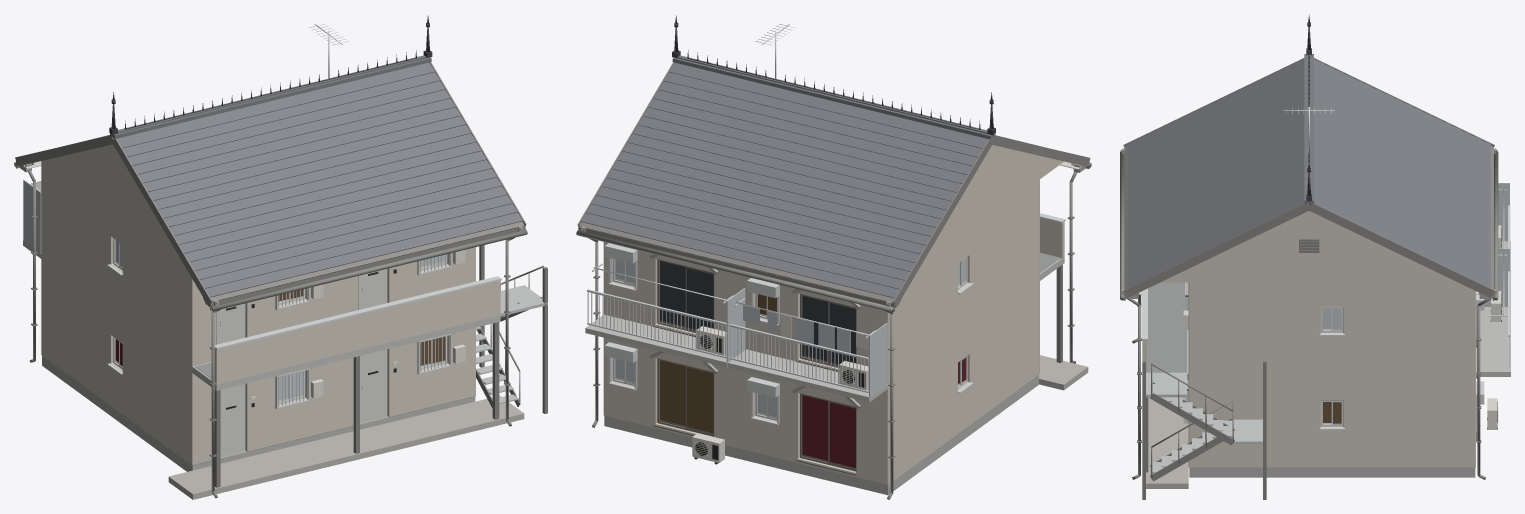
Rendered from blk_outer1_0_4.glb.
3 renders of one model, left to right at view 1: azimuth 30°, elevation 25°; view 2: azimuth 150°, elevation 25°; view 3: azimuth 270°, elevation 25°, orthographic. The views are drawn at different scales.
Parts seen in each view (by area): view 1: blk_outer1_0_4; view 2: blk_outer1_0_4; view 3: blk_outer1_0_4.
Part boxes in pixels (x1,y1,x2,y2): blk_outer1_0_4: [14, 15, 547, 499]; blk_outer1_0_4: [576, 15, 1091, 499]; blk_outer1_0_4: [1120, 14, 1510, 499].
Size of the model in its own units: 10.53 by 9.89 by 10.55.
